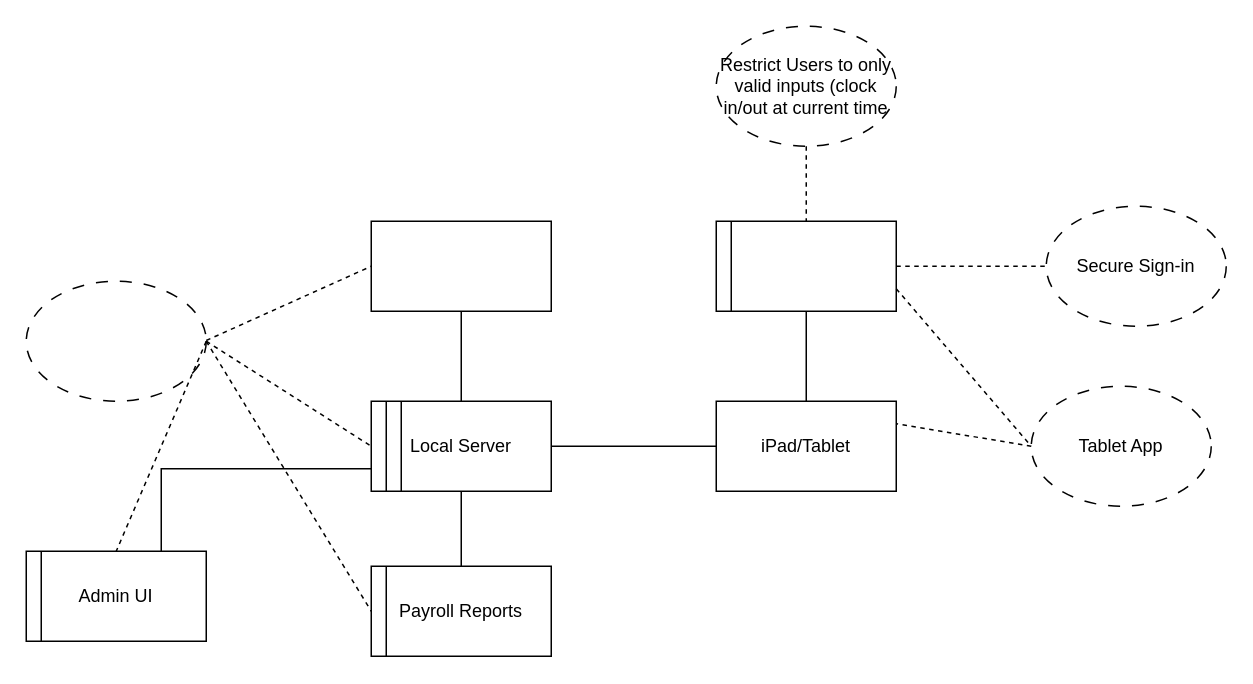
Some shapes in this 1253 by 684 pixel diagram are drawn without their labels. The shapes that lost their labels are listed below. From the top down, each one's box as (x1, y1, x2, y2) in pixels, then its label:
(370, 220, 551, 311): User payroll/accounting data
(715, 220, 896, 311): Time Clock Tablet UI
(25, 280, 206, 401): Use current accounting data format
